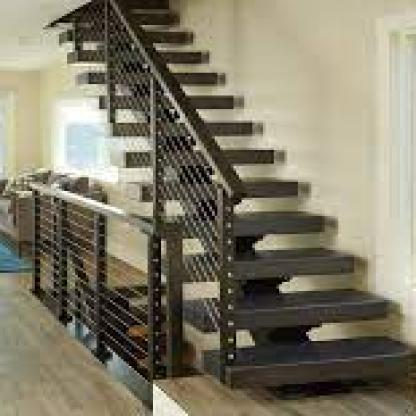stair: (71, 0, 415, 388)
